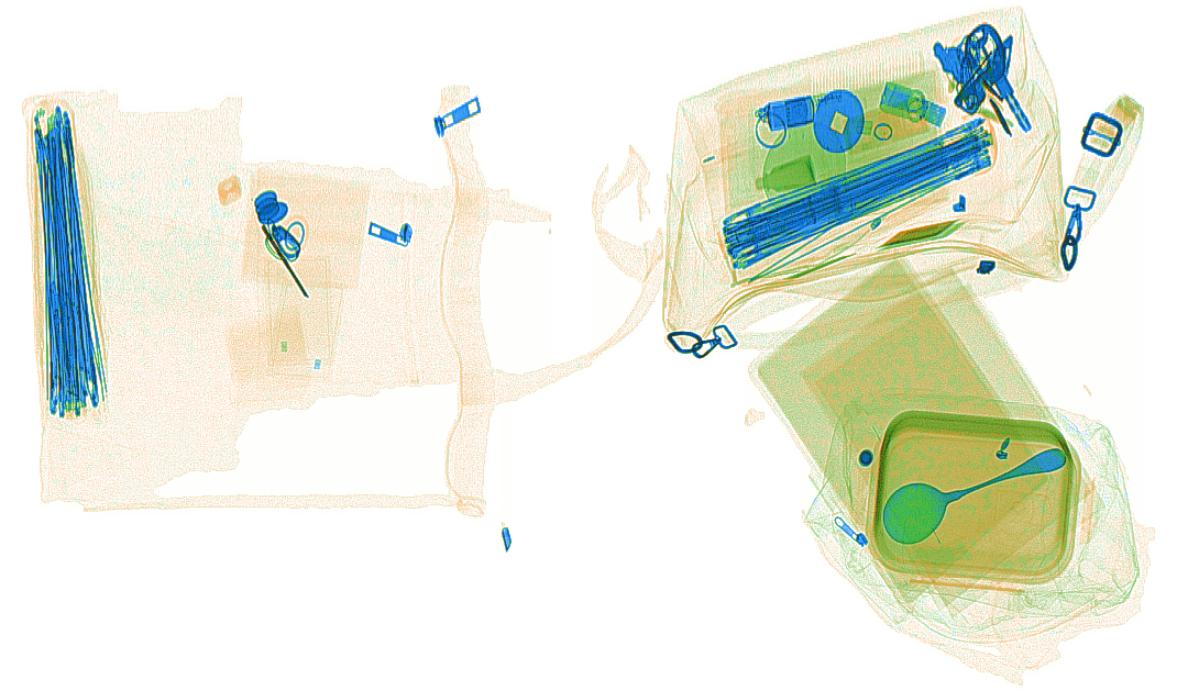USBFlashDisk: (879, 82, 951, 130), (764, 93, 817, 133)
